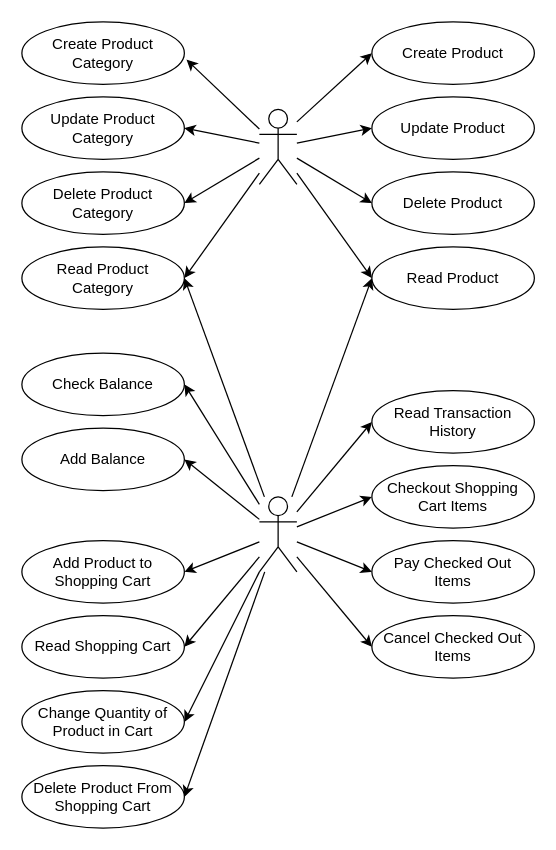
Some shapes in this 556 by 850 pixel diagram are drawn without their labels. Each missing label, with the centre of its shape:
Admin: the point at 277,146
User: the point at 277,534
